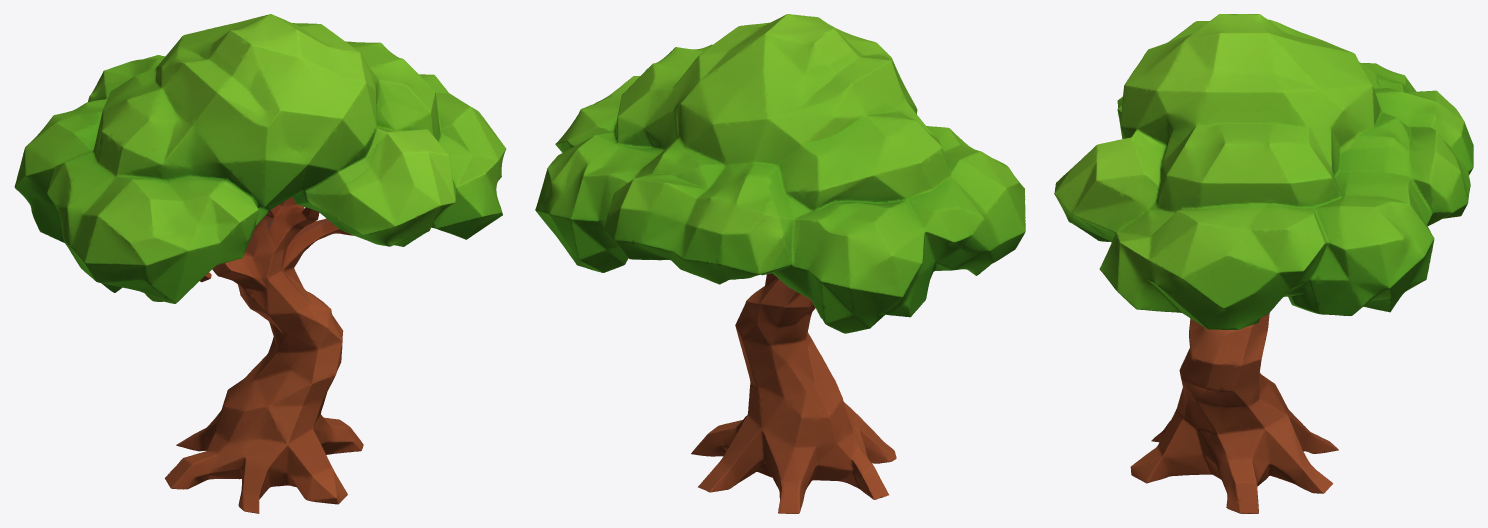
Rendered from arvore 1.glb.
3 renders of one model, left to right at view 1: azimuth 30°, elevation 25°; view 2: azimuth 150°, elevation 25°; view 3: azimuth 270°, elevation 25°, orthographic.
Bounding box in the file's own units: 1.88 × 1.88 × 1.61.
Materials: 1 (1 with a texture image).
